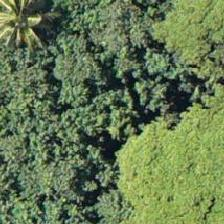coconut_tree: (0, 0, 72, 53)
